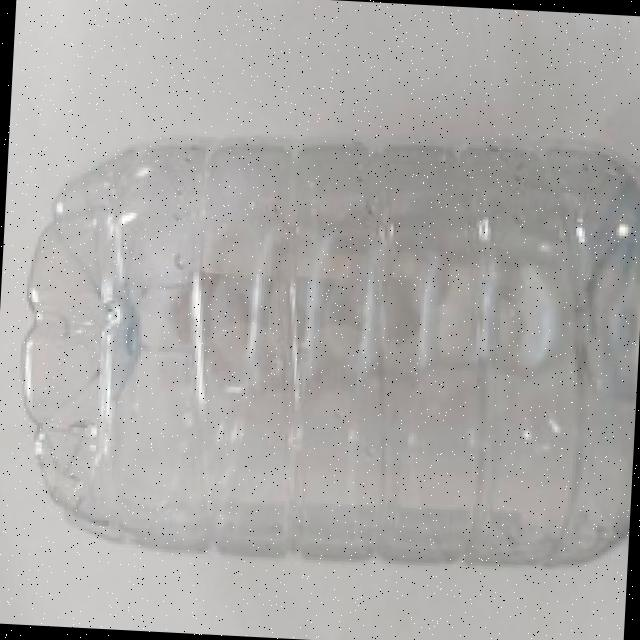bottle: (9, 119, 640, 575)
